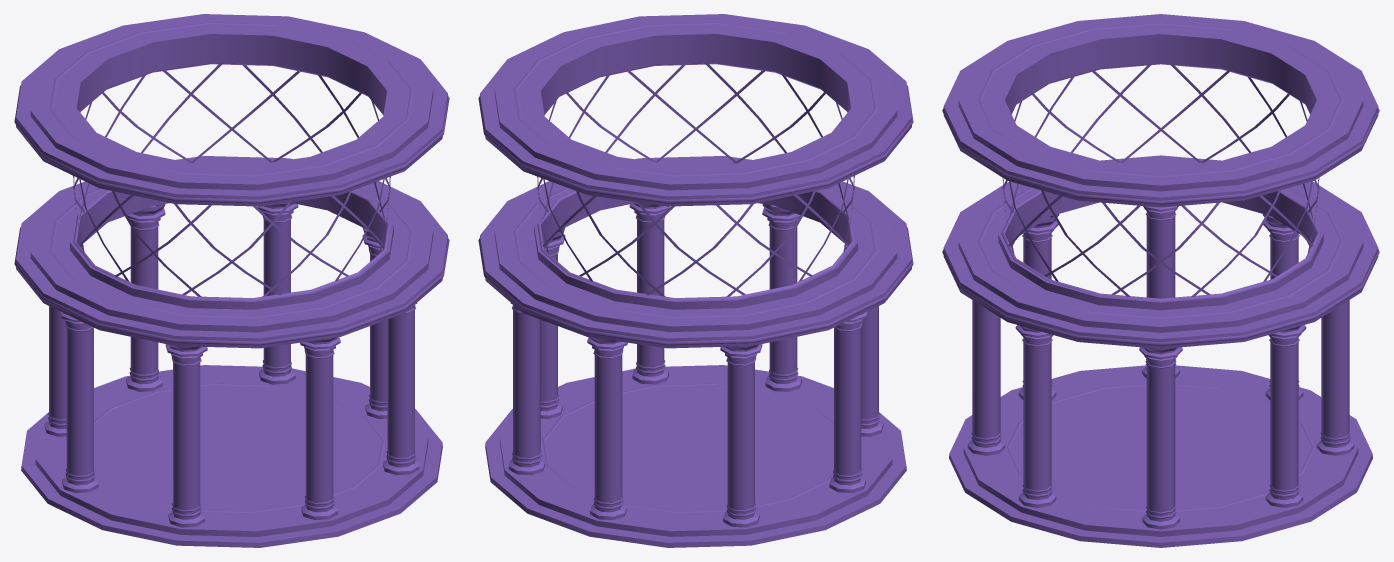
Rendered from Tower_Base_01_Art.fbx.
The picture shows the model from 3 angles, left to right: view 1: azimuth 30°, elevation 25°; view 2: azimuth 150°, elevation 25°; view 3: azimuth 270°, elevation 25°; orthographic projection.
Visible parts, largest first — view 1: Tower_Base_01_Art; view 2: Tower_Base_01_Art; view 3: Tower_Base_01_Art.
Part boxes in pixels (x1,y1,x2,y2): Tower_Base_01_Art: (14, 14, 449, 547); Tower_Base_01_Art: (478, 14, 913, 547); Tower_Base_01_Art: (942, 14, 1379, 547).
Size of the model in its own units: 1574 by 1425 by 1574.
